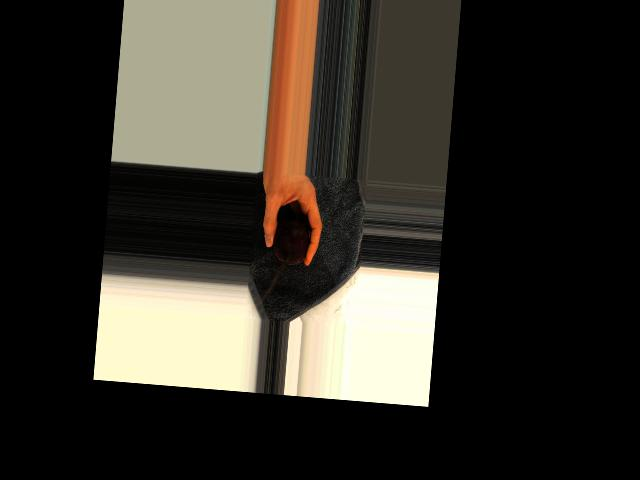beet: (271, 217, 311, 266)
